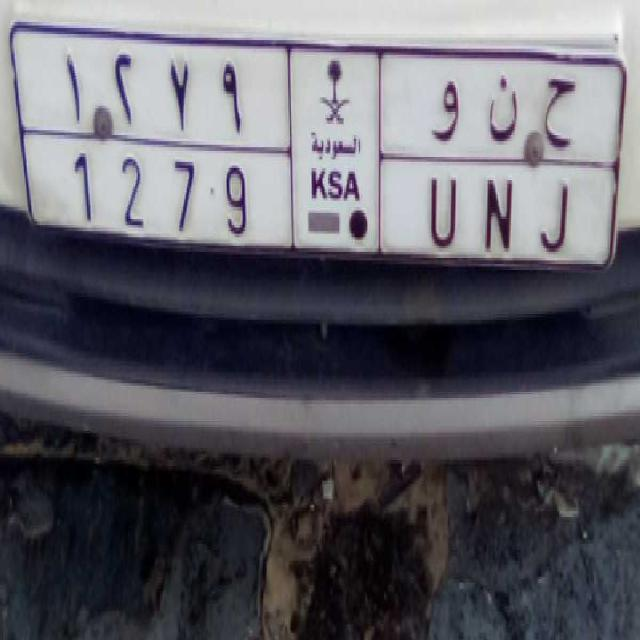license_plate: (38, 136, 610, 270)
